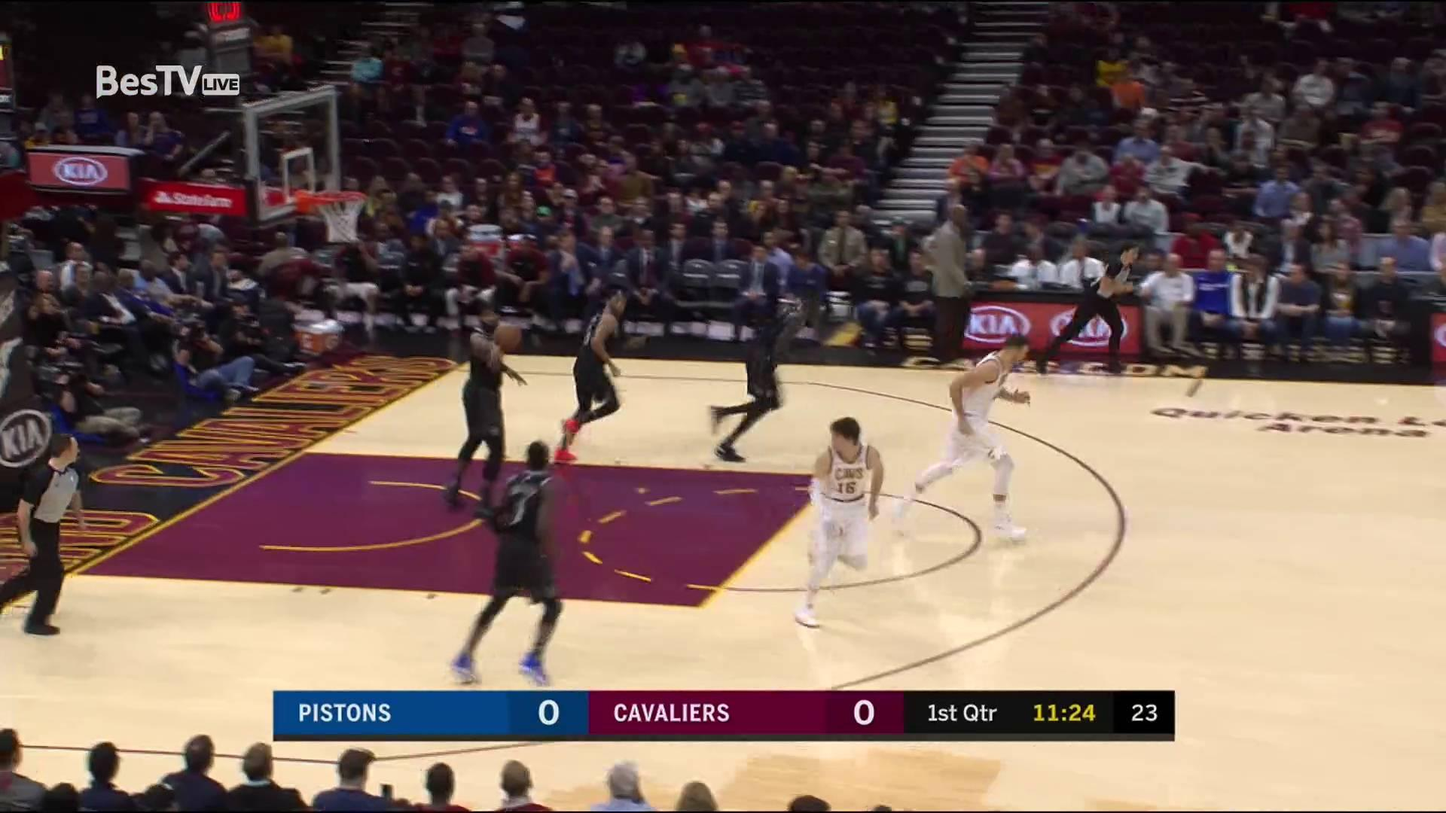basketball: (492, 325, 522, 355)
